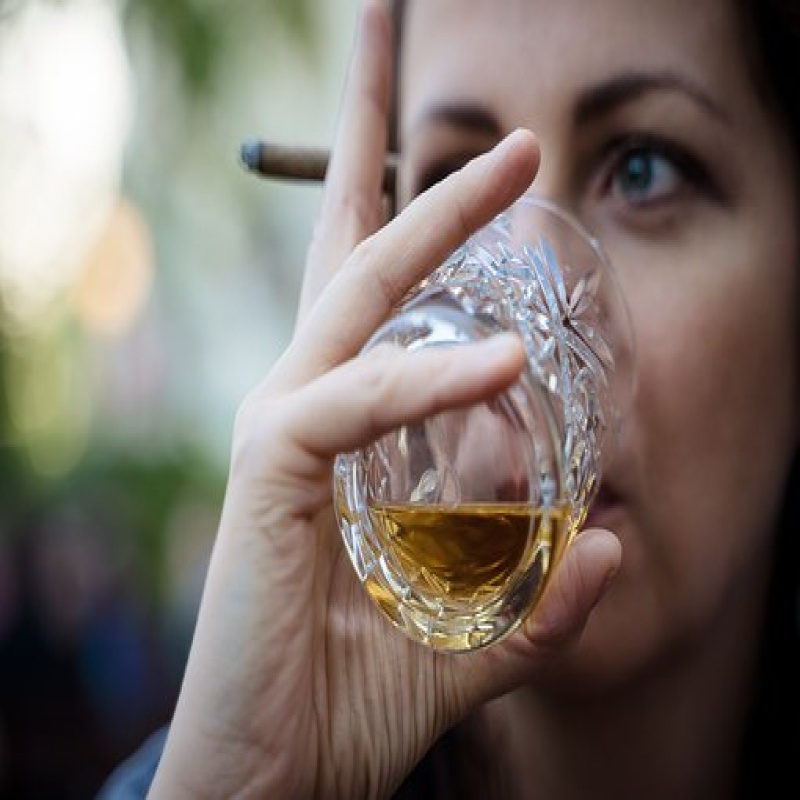whiskey: (333, 208, 633, 652)
